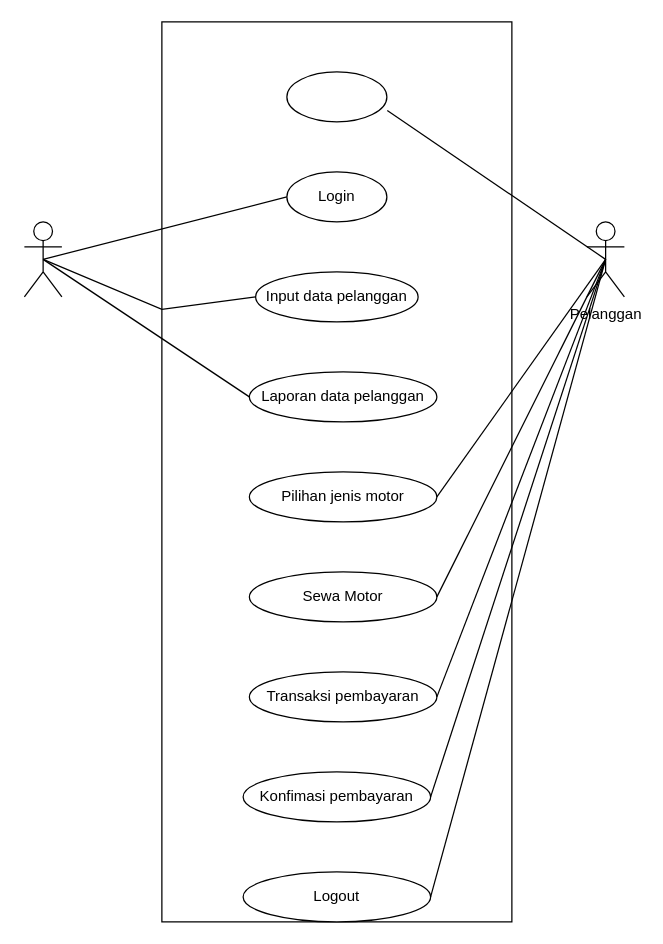
The diagram is 663 pixels wide and 944 high, and some of its shapes have lost their labels. The centre of each missing label's shape, as x and y in pixels:
"Admin" belongs at (42,259).
"Register" belongs at (336,96).
